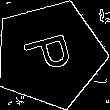P_E: (19, 29, 81, 79)
